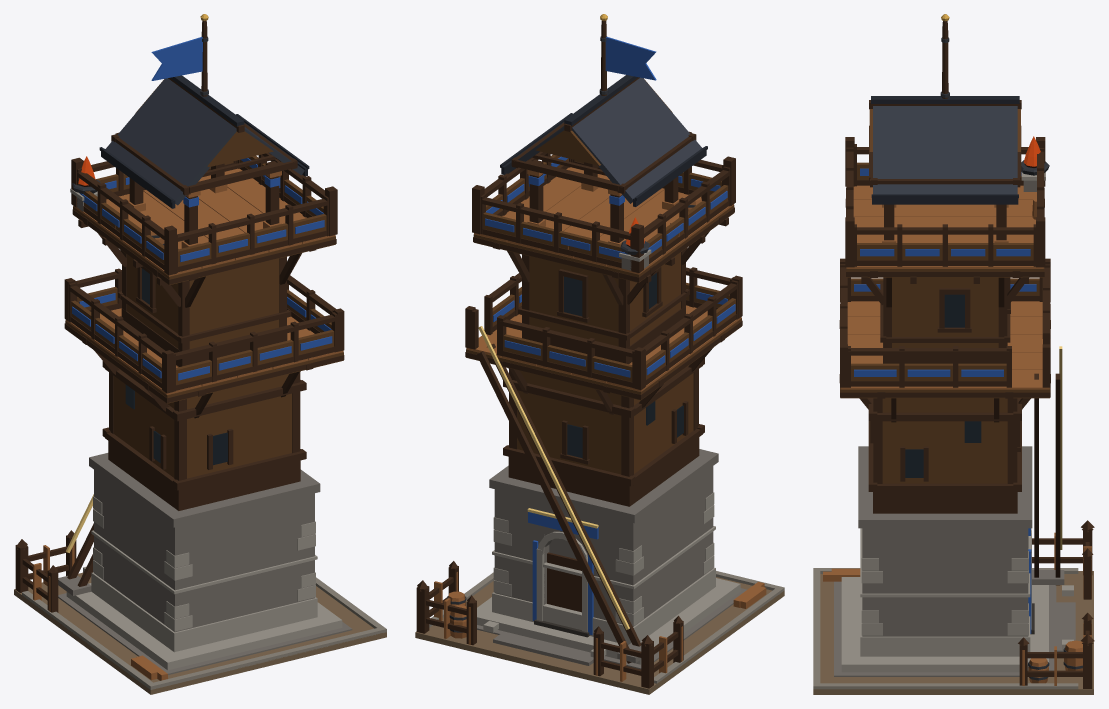
The picture shows the model from 3 angles, left to right: view 1: azimuth 30°, elevation 25°; view 2: azimuth 150°, elevation 25°; view 3: azimuth 270°, elevation 25°; orthographic projection. The views are drawn at different scales.
Parts seen in each view (by area): view 1: WT-主体, WT-team, WT-自发光; view 2: WT-主体, WT-team, WT-自发光, WT-team_trim; view 3: WT-主体, WT-team, WT-自发光, WT-team_trim.
Boxes of the visible parts, left/top/right/bottom form: WT-主体: left=14, top=14, right=386, bottom=694; WT-team: left=72, top=37, right=332, bottom=380; WT-自发光: left=78, top=156, right=227, bottom=465; WT-主体: left=415, top=14, right=784, bottom=694; WT-team: left=485, top=37, right=735, bottom=634; WT-自发光: left=564, top=217, right=683, bottom=458; WT-team_trim: left=478, top=326, right=629, bottom=629; WT-主体: left=813, top=14, right=1094, bottom=694; WT-team: left=854, top=168, right=1036, bottom=633; WT-自发光: left=905, top=136, right=1040, bottom=477; WT-team_trim: left=1059, top=346, right=1062, bottom=549.
Bounding box in the file's own units: 7.16 × 17.34 × 7.12.
4 materials, 2 textured.
